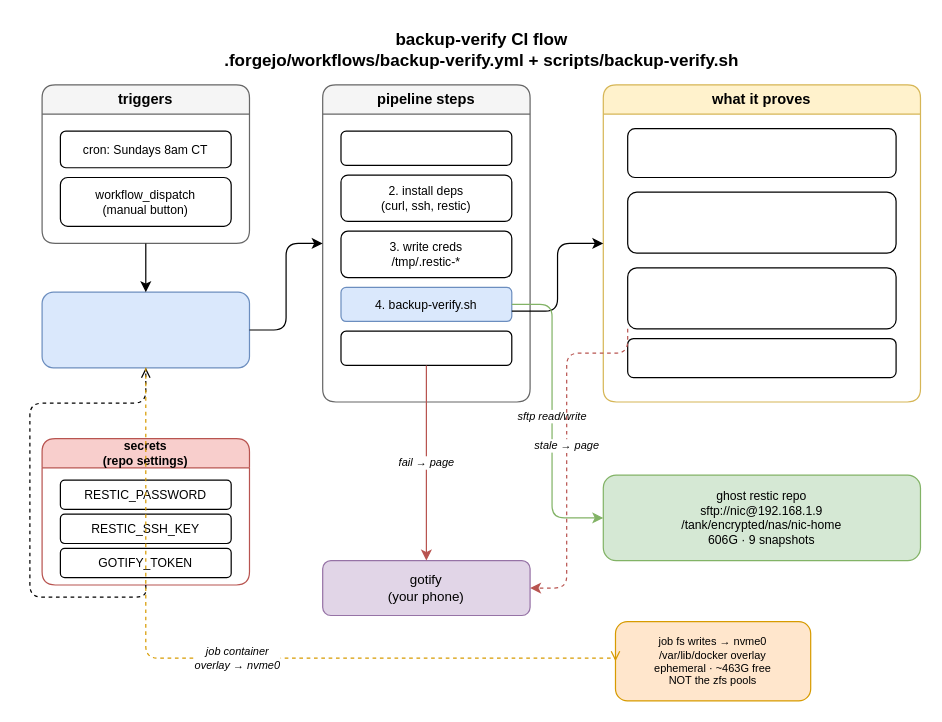
Some shapes in this 942 by 722 pixel diagram are drawn without their labels. Each missing label, with the centre of its shape:
"1. checkout repo" belongs at [426,147].
"5. notify on failure" belongs at [426,347].
"exit 0 pass / exit 1 fail" belongs at [761,357].
"ghost · forgejo-runner + docker-in-docker sidecar runs-on: docker" belongs at [145,329].
"restic check repo integrity" belongs at [761,152].
"restore subset /source/.ssh → /tmp count files > 0" belongs at [761,222].
"staleness gate newest snap < 10 days (else fail + page)" belongs at [761,298].
